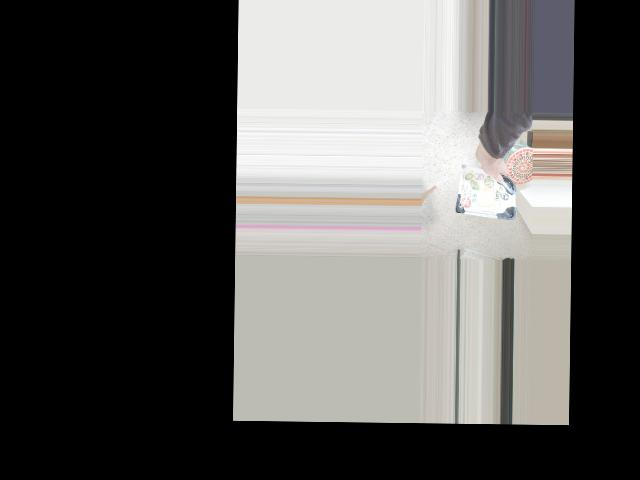cheese: (456, 155, 508, 202)
